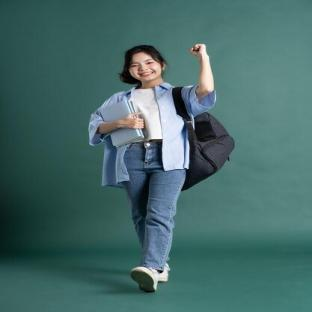Human: (88, 45, 190, 291), (181, 44, 215, 127)
